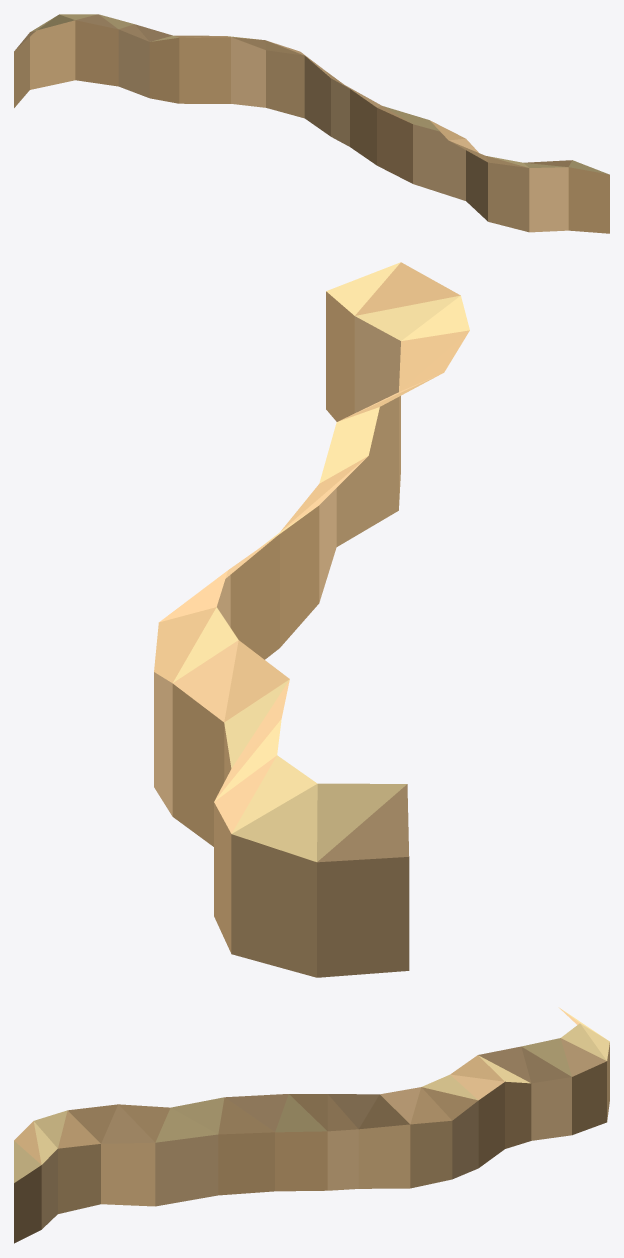
The picture shows the model from 3 angles, top to bottom: view 1: azimuth 30°, elevation 25°; view 2: azimuth 150°, elevation 25°; view 3: azimuth 270°, elevation 25°; orthographic projection. The views are drawn at different scales.
Parts seen in each view (by area): view 1: O2F0B2; view 2: O2F0B2; view 3: O2F0B2.
Part boxes in pixels (<box>): O2F0B2: <box>14,14,609,233</box>; O2F0B2: <box>154,262,469,977</box>; O2F0B2: <box>14,1007,609,1243</box>.
Size of the model in its own units: 76.55 by 19 by 122.
